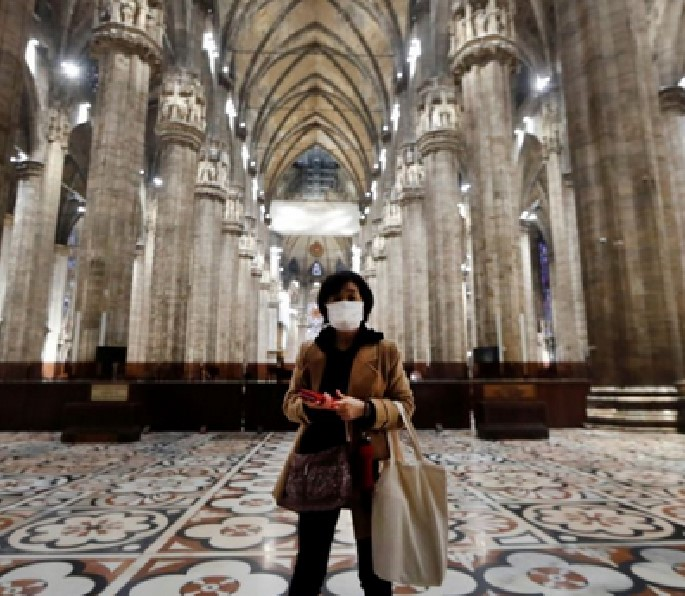face_with_mask: (315, 270, 373, 335)
